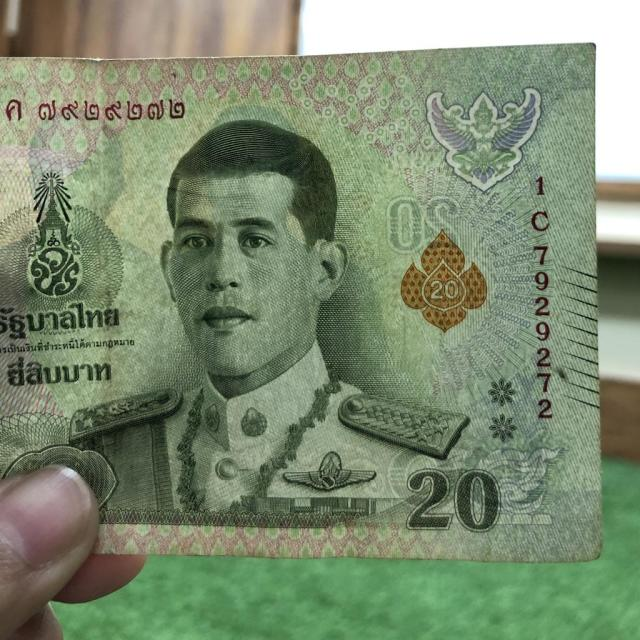THAI20: (0, 44, 601, 562)
